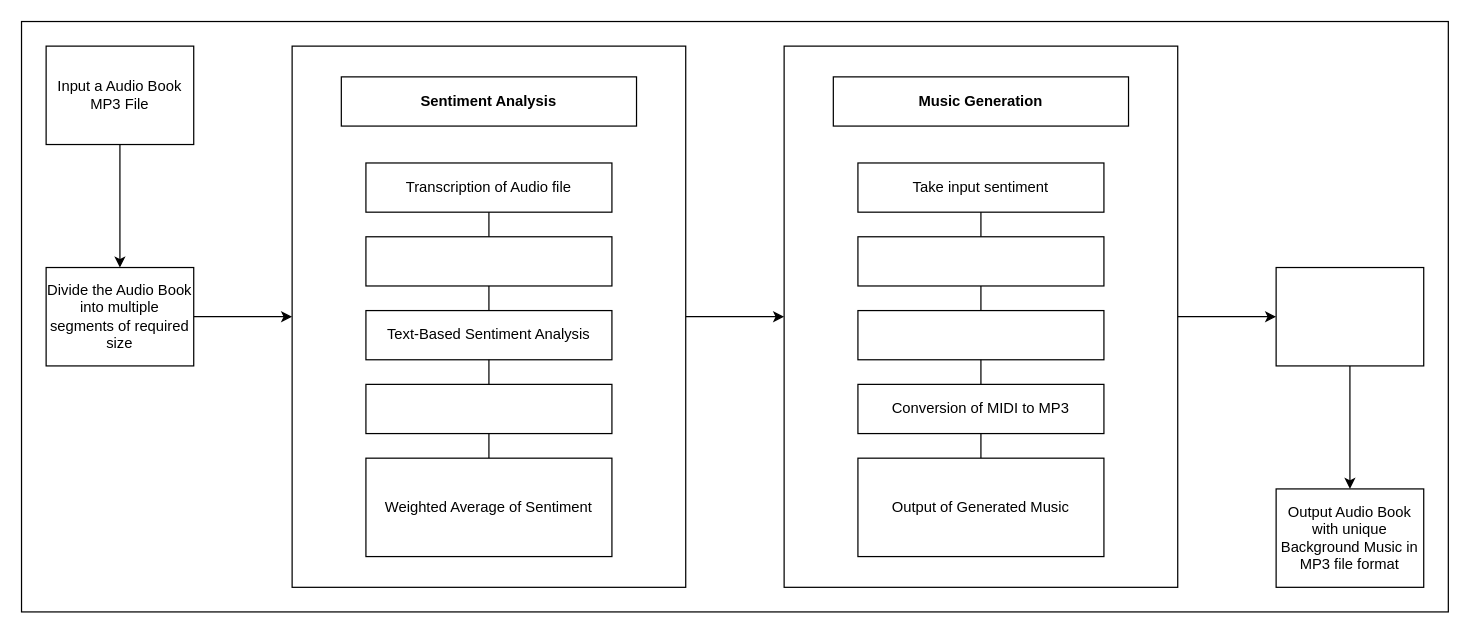
The diagram is 1470 pixels wide and 633 high, and some of its shapes have lost their labels. The shapes that lost their labels are listed below. From the top down, each one's centre as x and y in pixels, then its label:
At point (488, 261): "Extraction of Audio Features".
At point (980, 261): "Pass sentiment to Generative Model".
At point (980, 334): "Generation of unique MIDI file".
At point (1349, 316): "Overlay the Audio Book with the respective music generated".
At point (488, 408): "Audio-Based Sentiment Analysis".
